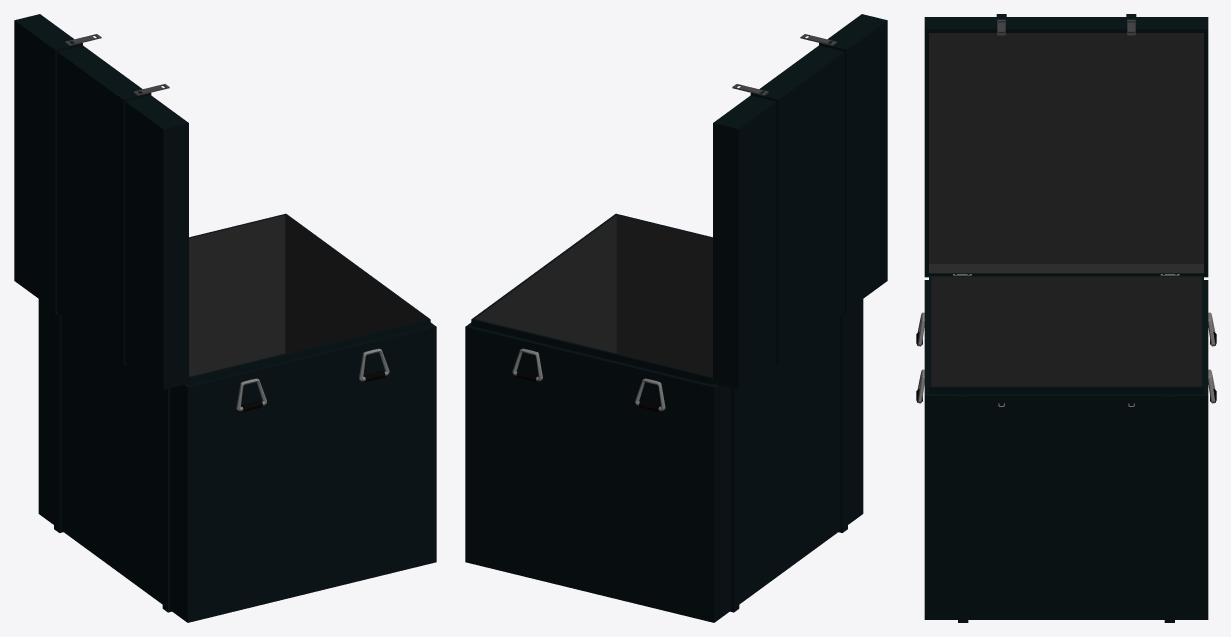
The model's file is StorageCrate_015.glb.
3 views of the same model, side by side, from view 1: azimuth 30°, elevation 25°; view 2: azimuth 150°, elevation 25°; view 3: azimuth 270°, elevation 25° (orthographic). The views are drawn at different scales.
Visible parts, largest first — view 1: Mesh_StorageCrate_015; view 2: Mesh_StorageCrate_015; view 3: Mesh_StorageCrate_015.
Boxes of the visible parts, box(x1,y1,x2,y2) form: Mesh_StorageCrate_015: box(14, 14, 436, 622); Mesh_StorageCrate_015: box(465, 14, 887, 622); Mesh_StorageCrate_015: box(916, 14, 1216, 622).
Bounding box in the file's own units: 1.09 × 1.87 × 1.06.
Materials: 1 (1 with a texture image).
